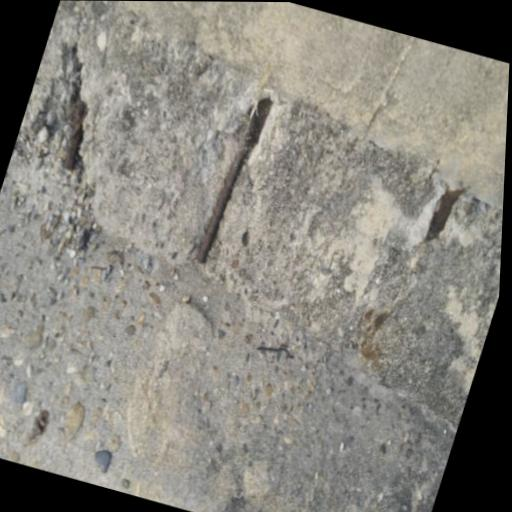exposed_rebar: (196, 104, 257, 262), (425, 188, 463, 240), (63, 100, 87, 169)
